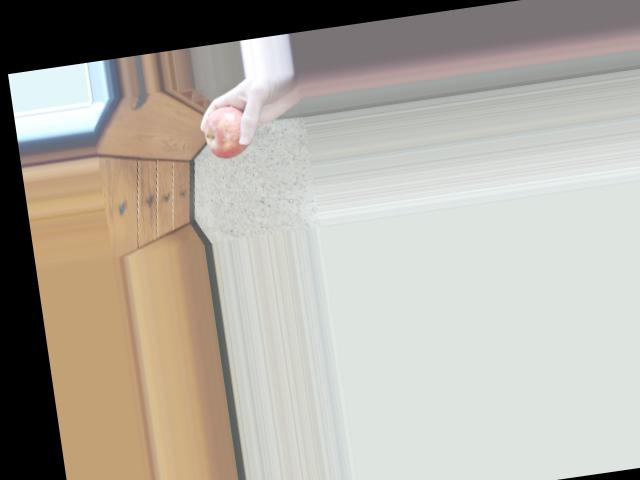apple: (197, 95, 262, 162)
